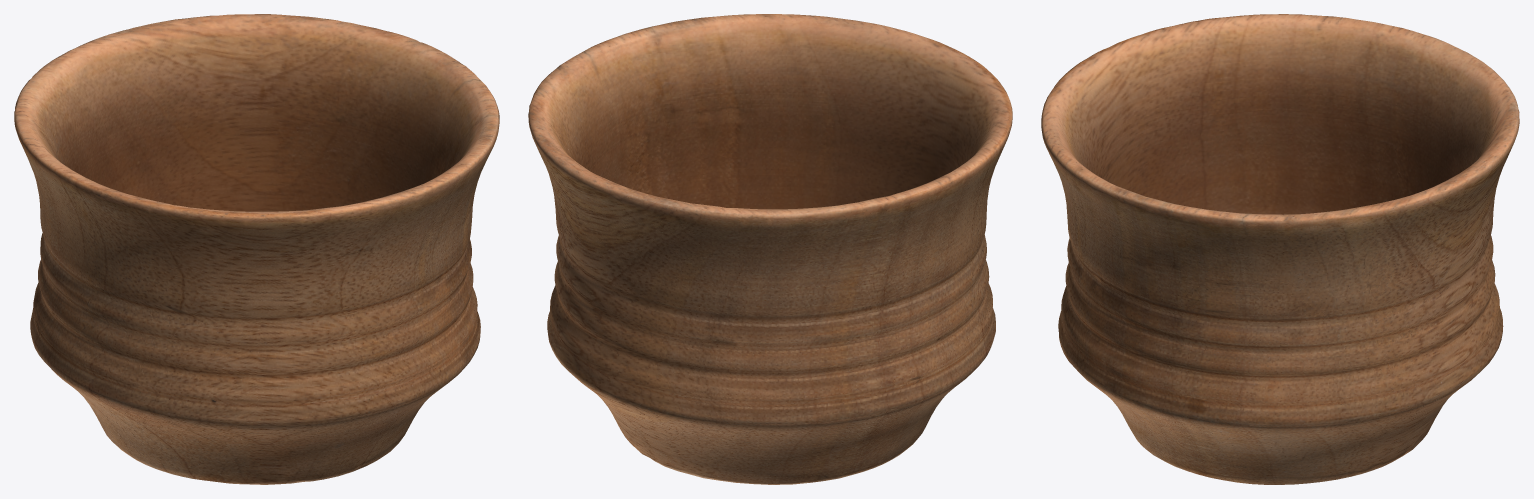
The model's file is SM_Wooden_Bowl_B.fbx.
The picture shows the model from 3 angles, left to right: view 1: azimuth 30°, elevation 25°; view 2: azimuth 150°, elevation 25°; view 3: azimuth 270°, elevation 25°; orthographic projection.
Parts seen in each view (by area): view 1: SM_Wooden_Bowl_B_LOD0; view 2: SM_Wooden_Bowl_B_LOD0; view 3: SM_Wooden_Bowl_B_LOD0.
Part boxes in pixels (x1,y1,x2,y2): SM_Wooden_Bowl_B_LOD0: [14, 14, 499, 484]; SM_Wooden_Bowl_B_LOD0: [528, 14, 1012, 484]; SM_Wooden_Bowl_B_LOD0: [1041, 14, 1519, 484].
Bounding box in the file's own units: 10.55 × 10.48 × 7.5.
Materials: 1 (1 with a texture image).
